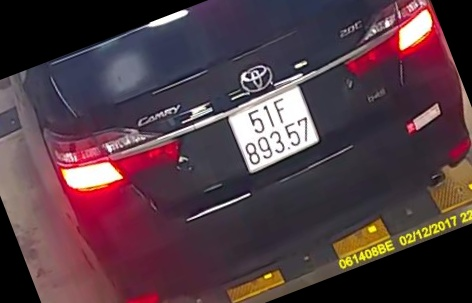plate: (221, 87, 321, 171)
